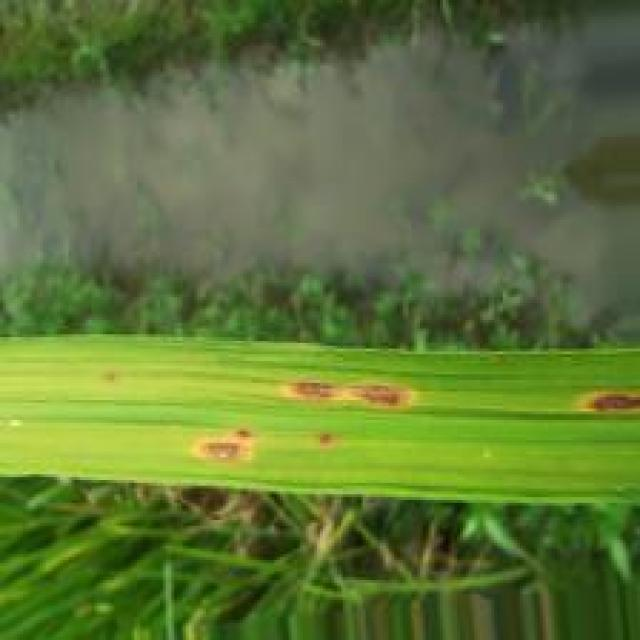Brown_Spot: (274, 375, 425, 412), (192, 423, 260, 467), (586, 390, 640, 414), (317, 426, 339, 446)
